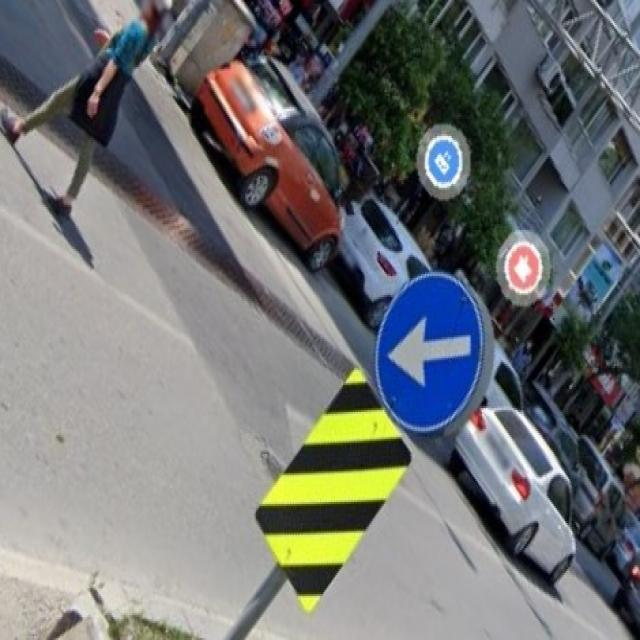Turn Left: (374, 272, 491, 431)
